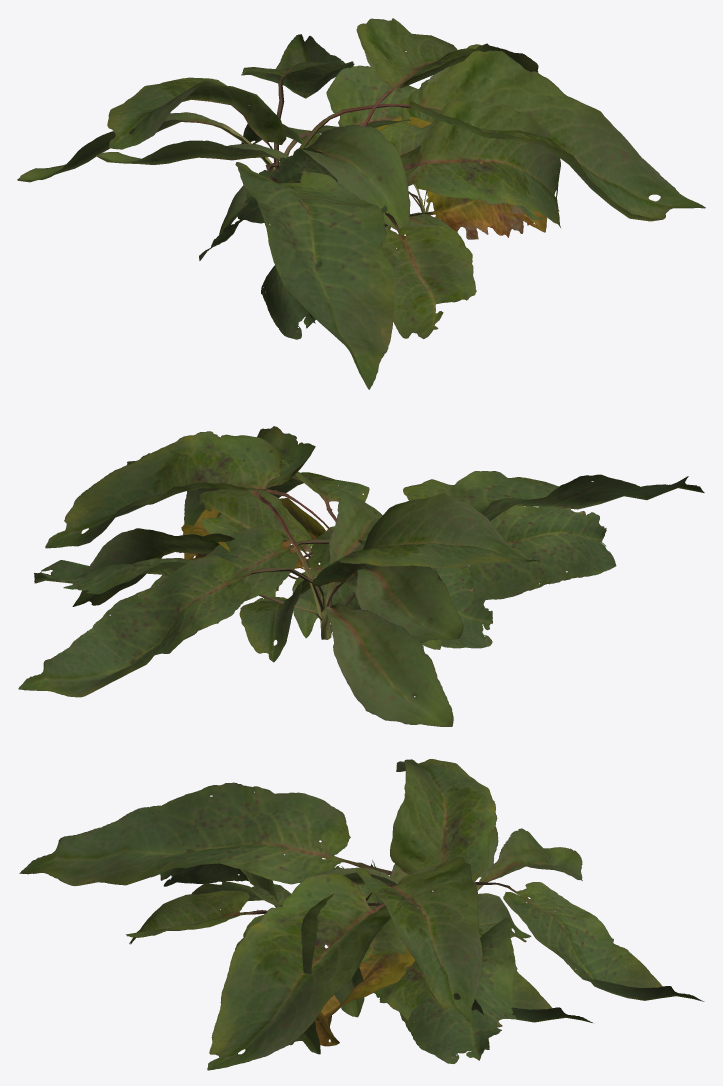
File: weed-plant-02.glb
3 views of the same model, one above another, from view 1: azimuth 30°, elevation 25°; view 2: azimuth 150°, elevation 25°; view 3: azimuth 270°, elevation 25° (orthographic). The views are drawn at different scales.
Parts seen in each view (by area): view 1: weed_plant_02_a_LOD0, weed_plant_02_b_LOD0, weed_plant_02_c_LOD0, weed_plant_02_e_LOD0, weed_plant_02_d_LOD0; view 2: weed_plant_02_a_LOD0, weed_plant_02_b_LOD0, weed_plant_02_c_LOD0, weed_plant_02_d_LOD0, weed_plant_02_e_LOD0; view 3: weed_plant_02_a_LOD0, weed_plant_02_b_LOD0, weed_plant_02_c_LOD0, weed_plant_02_d_LOD0.
Part boxes in pixels (x1,y1,x2,y2): weed_plant_02_a_LOD0: [17, 34, 705, 389]; weed_plant_02_b_LOD0: [96, 18, 538, 339]; weed_plant_02_c_LOD0: [219, 100, 560, 328]; weed_plant_02_e_LOD0: [237, 148, 545, 223]; weed_plant_02_d_LOD0: [199, 79, 474, 260]; weed_plant_02_a_LOD0: [18, 426, 704, 726]; weed_plant_02_b_LOD0: [45, 431, 616, 642]; weed_plant_02_c_LOD0: [179, 459, 560, 662]; weed_plant_02_d_LOD0: [72, 512, 492, 648]; weed_plant_02_e_LOD0: [262, 526, 442, 609]; weed_plant_02_a_LOD0: [19, 759, 704, 1070]; weed_plant_02_b_LOD0: [126, 826, 592, 1046]; weed_plant_02_c_LOD0: [191, 881, 531, 1054]; weed_plant_02_d_LOD0: [335, 866, 489, 1053].
Size of the model in its own units: 0.2194 by 0.0725 by 0.2909.
5 materials, 5 textured.
